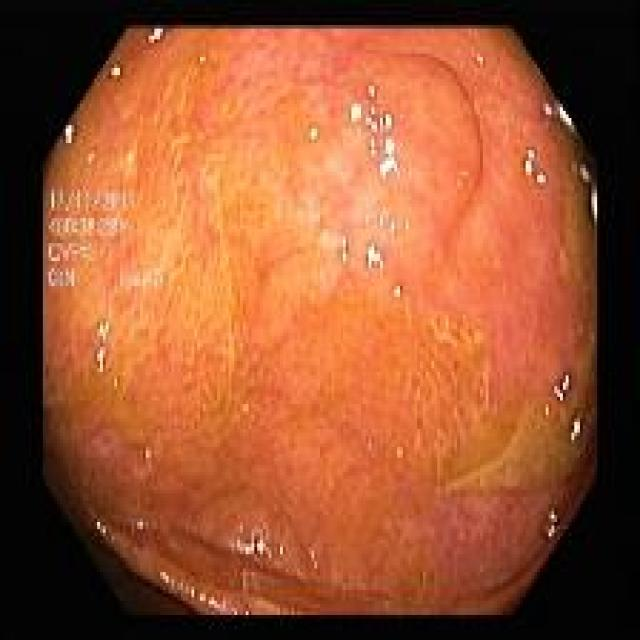ulcerative-colitis: (46, 47, 594, 614)
